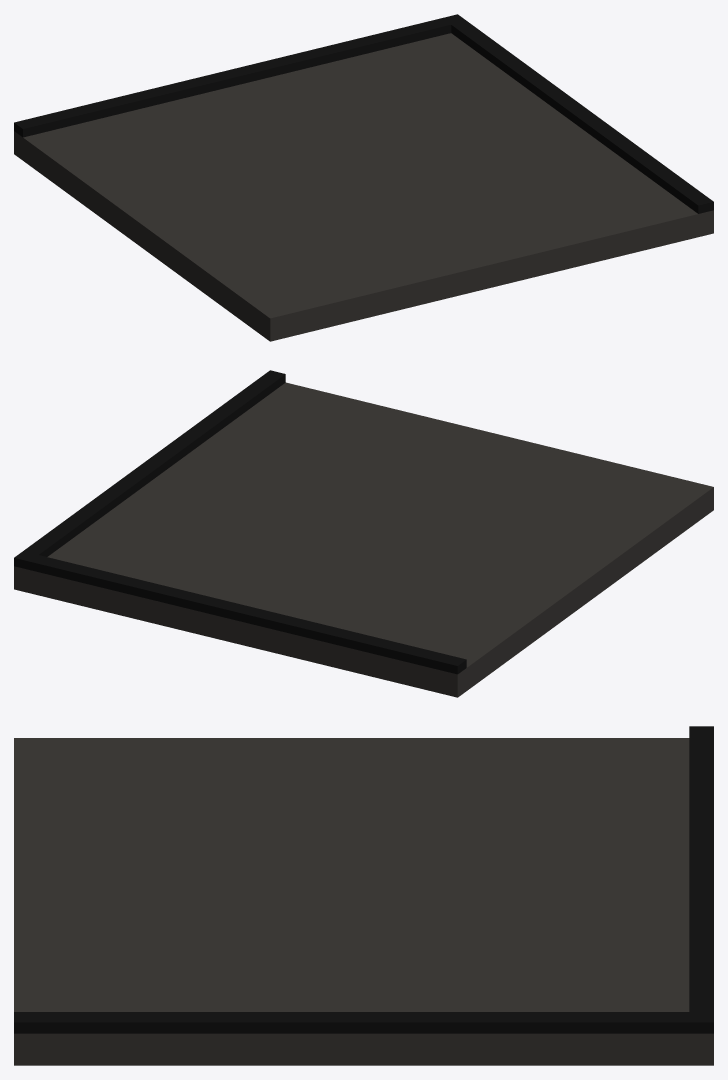
The model's file is SM_Factory_Ground_04.glb.
3 renders of one model, top to bottom at view 1: azimuth 30°, elevation 25°; view 2: azimuth 150°, elevation 25°; view 3: azimuth 270°, elevation 25°, orthographic. The views are drawn at different scales.
Visible parts, largest first — view 1: SM_Factory_Ground_04; view 2: SM_Factory_Ground_04; view 3: SM_Factory_Ground_04.
Boxes of the visible parts, bbox=[...] form: SM_Factory_Ground_04: bbox=[14, 14, 713, 341]; SM_Factory_Ground_04: bbox=[14, 370, 713, 697]; SM_Factory_Ground_04: bbox=[14, 726, 713, 1065].
Bounding box in the file's own units: 5 × 0.3407 × 5.
Materials: 1 (1 with a texture image).
